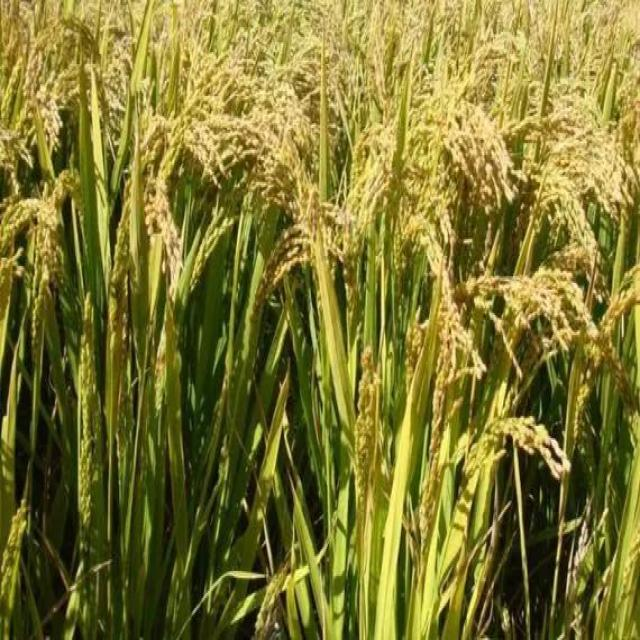Padi: (20, 12, 240, 348), (258, 12, 430, 308), (432, 260, 622, 510), (442, 50, 640, 272)
